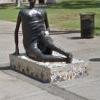Statue: (9, 2, 80, 68)
